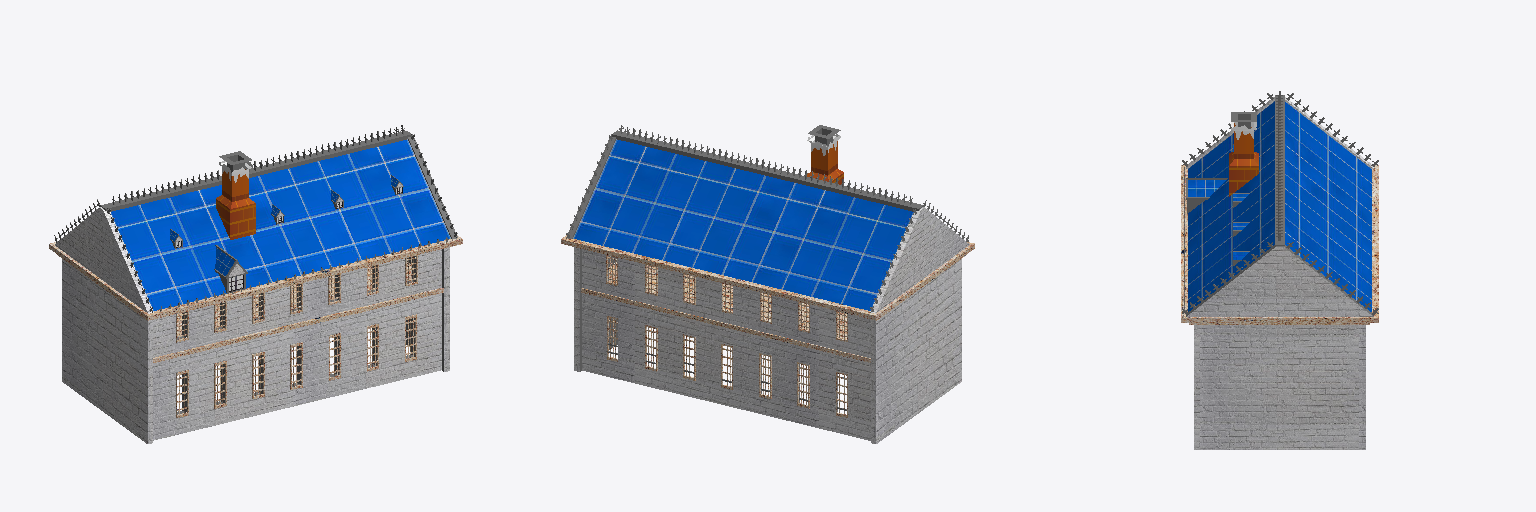
3 renders of one model, left to right at view 1: azimuth 30°, elevation 25°; view 2: azimuth 150°, elevation 25°; view 3: azimuth 270°, elevation 25°, orthographic.
Visible parts, largest first — view 1: Object.1; view 2: Object.1; view 3: Object.1.
Boxes of the visible parts, x1,y1,x2,y2 form: Object.1: [49, 125, 462, 443]; Object.1: [561, 125, 974, 443]; Object.1: [1181, 91, 1378, 449].
Size of the model in its own units: 61.18 by 44.56 by 33.33.
7 materials, 5 textured.